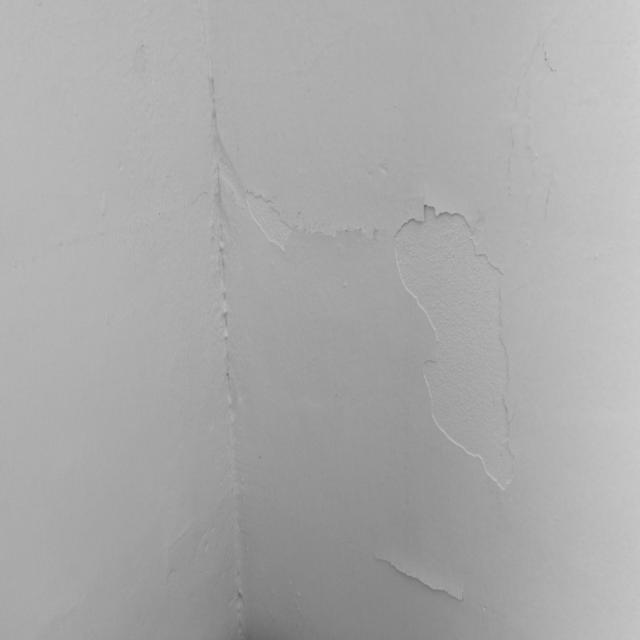peeling paint: (189, 51, 539, 640)
